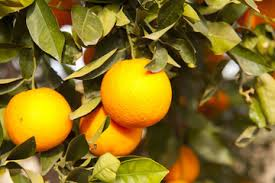orange: (96, 53, 174, 124), (7, 88, 74, 150), (73, 103, 146, 154)
